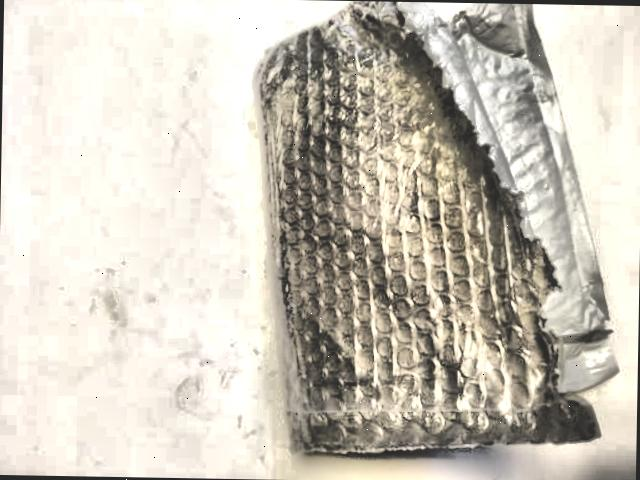Plastic: (244, 0, 635, 466)
